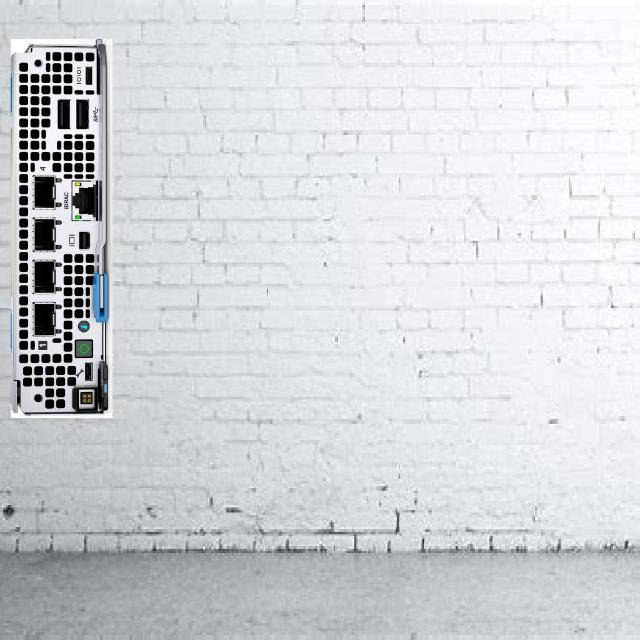Server: (10, 39, 111, 418)
